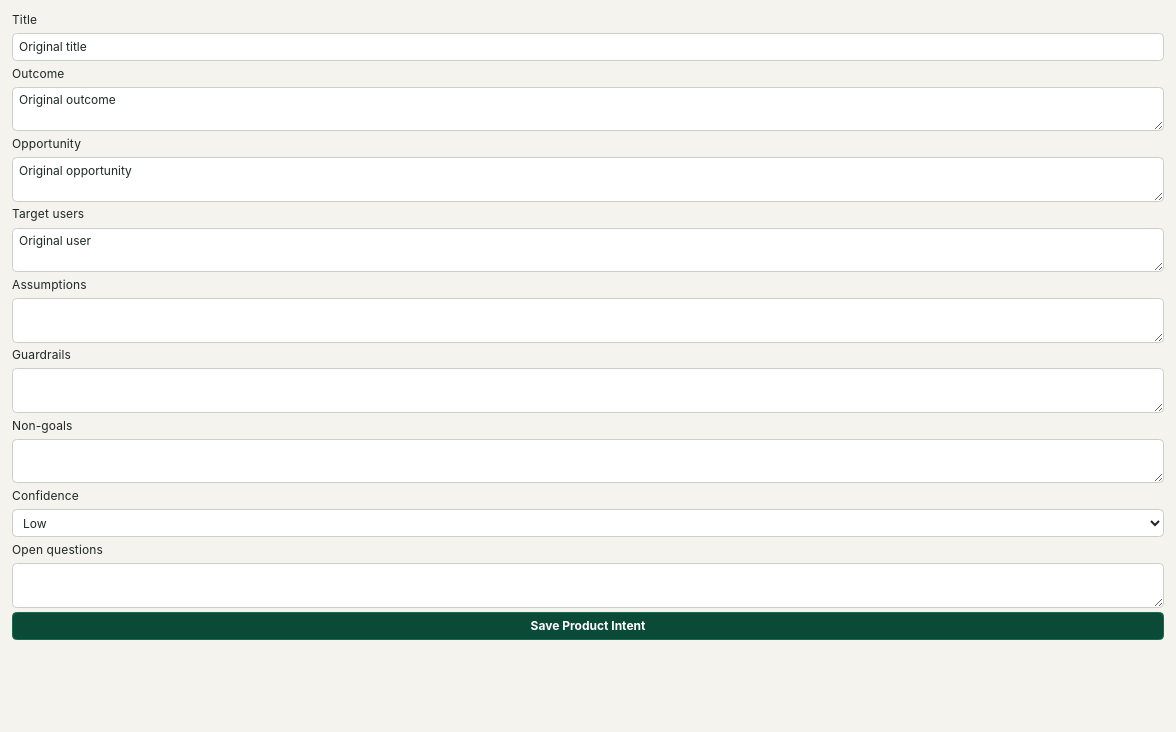
Test: ProductIntentEditor › AC-30 moves the surface onto the new review rather than the superseded one
Click the button "Save Product Intent": (588, 626) x1=12 y1=612 x2=1164 y2=640
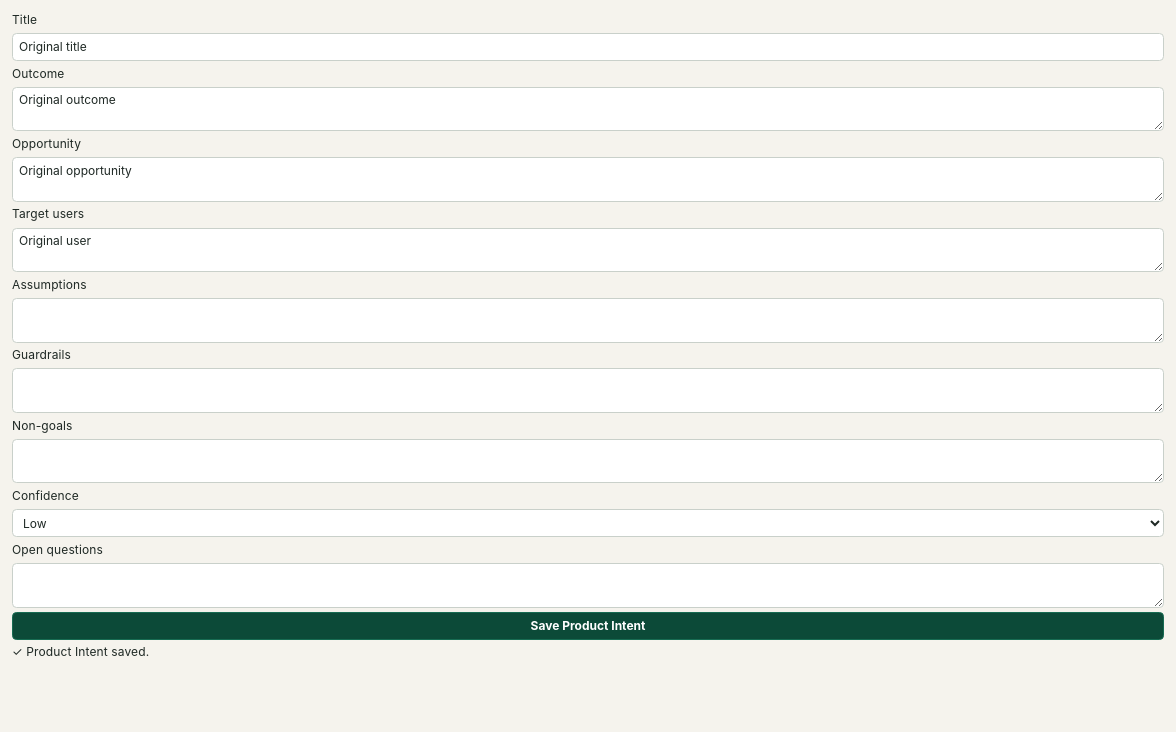
Expected: the text "Product Intent saved." is shown, x1=26 y1=644 x2=149 y2=659
